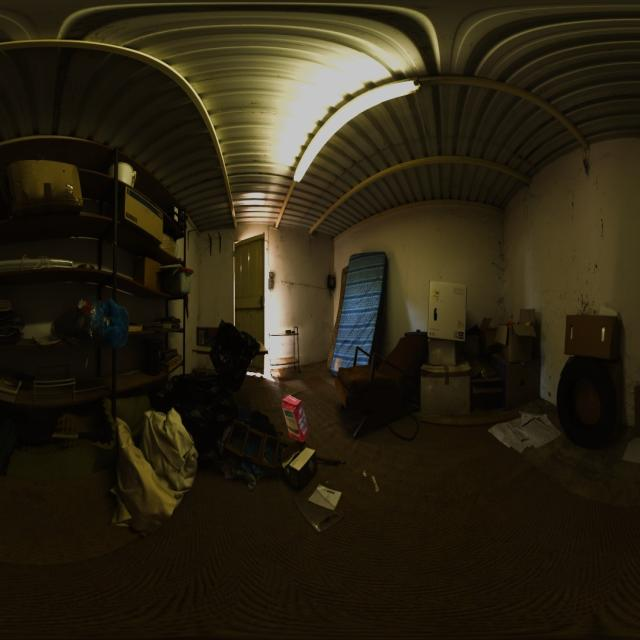mate bag: (283, 386, 307, 439)
